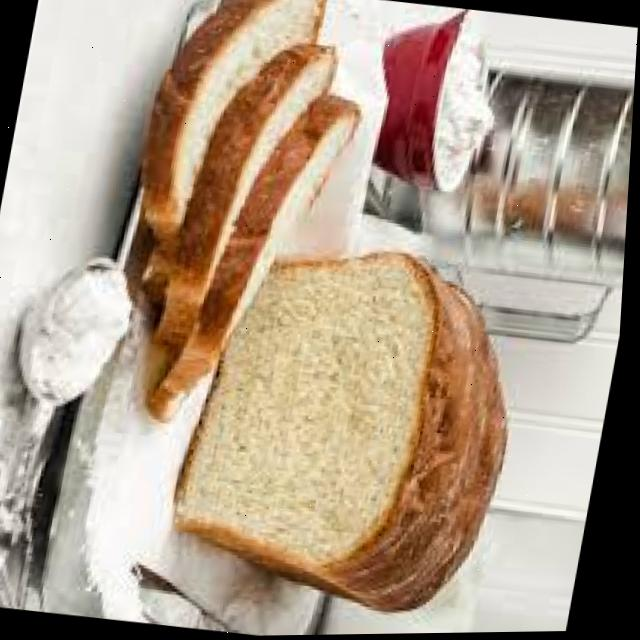Bread: (182, 256, 510, 611)
